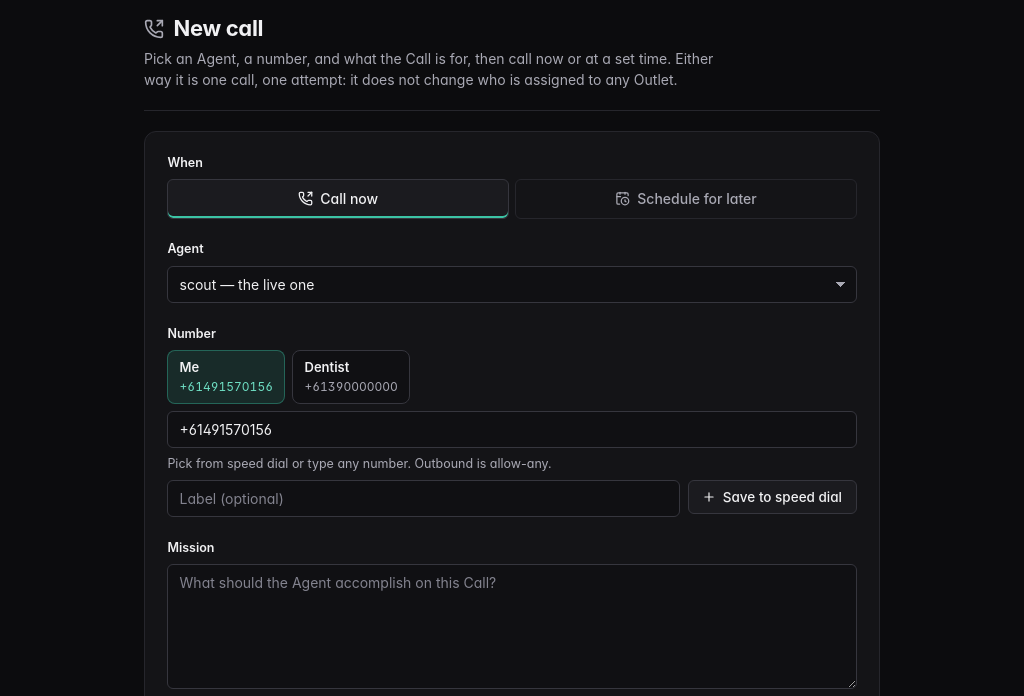
Test case: Place a call › leaves the typed Mission intact when the microphone is denied
Select "scout — the live one" in the dropdown with test id "place-agent". click: coordinates (512, 284)
box: [167,266,857,303]
Type "keep this typed line" into the text box with test id "place-mission". click: coordinates (512, 626)
box: [167,564,857,689]
(page scrolled)
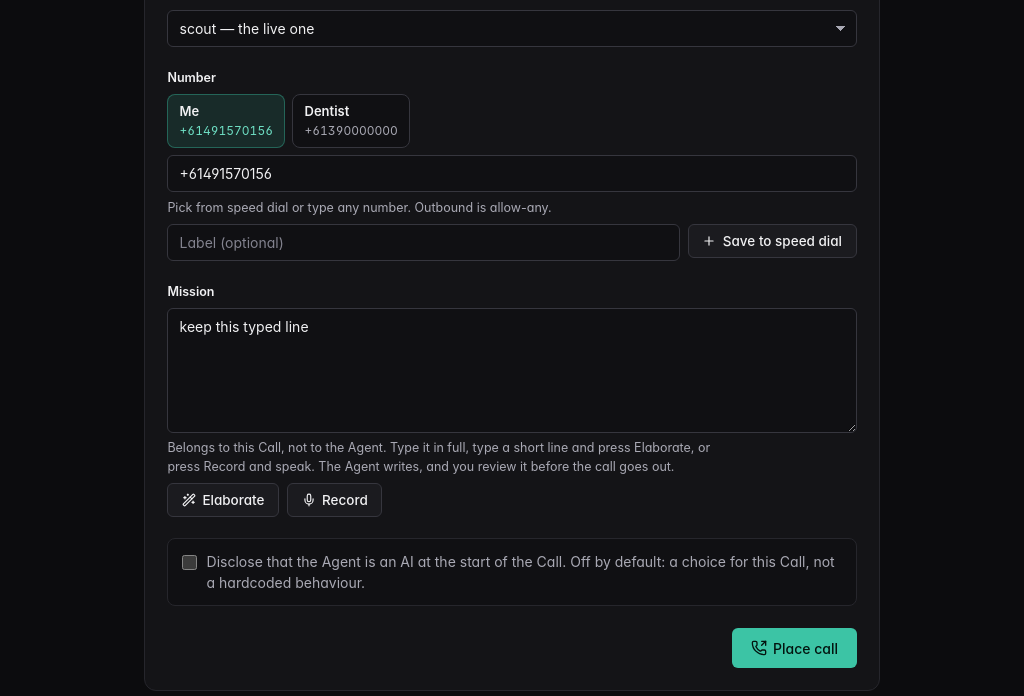
Click the button with test id "place-record". click: coordinates (335, 500)
box: [287,483,382,517]
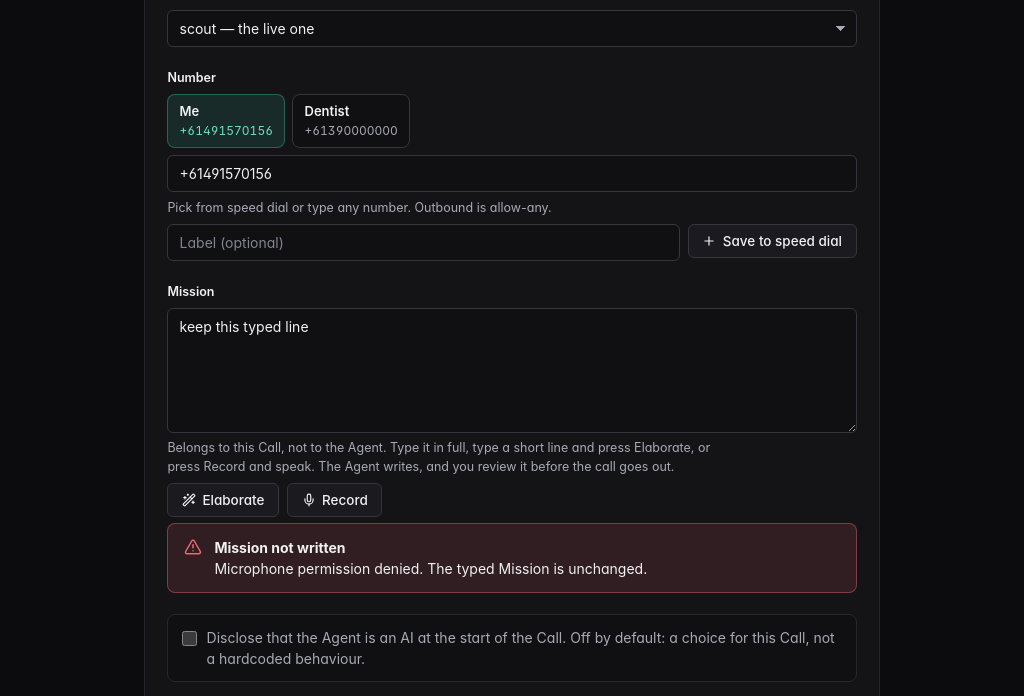
Check: the element with test id "place-assist-error" shows "permission denied", box [214,560,647,577]
